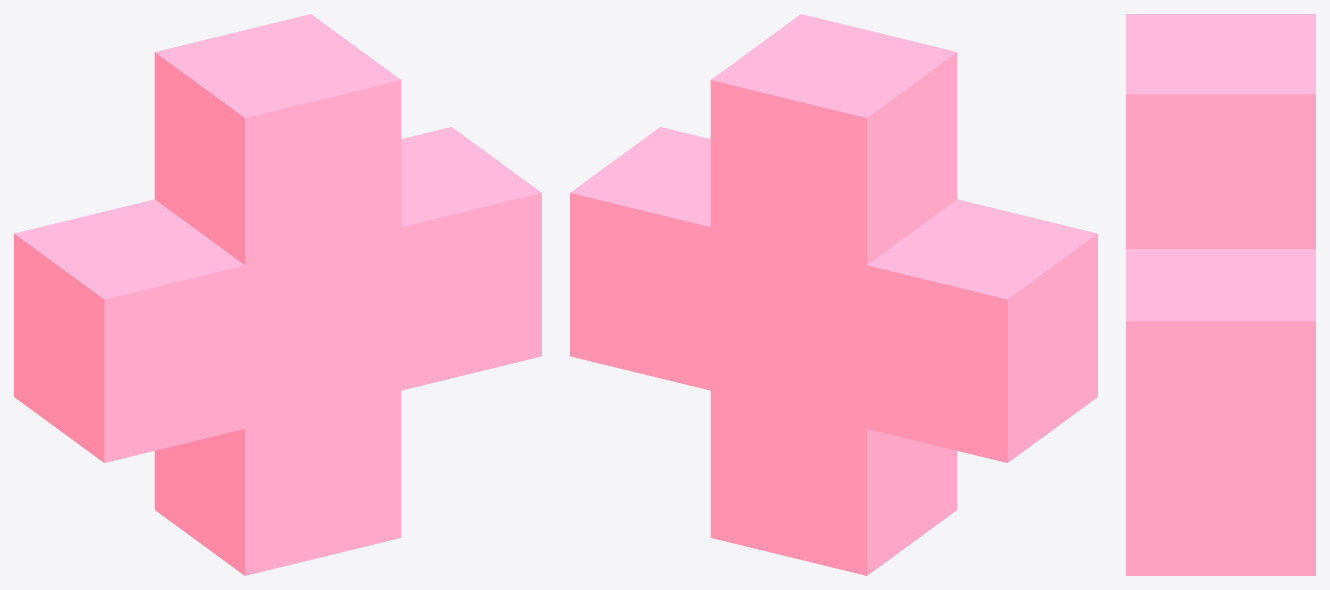
The model's file is item_extraLife.fbx.
3 views of the same model, side by side, from view 1: azimuth 30°, elevation 25°; view 2: azimuth 150°, elevation 25°; view 3: azimuth 270°, elevation 25° (orthographic). The views are drawn at different scales.
Visible parts, largest first — view 1: Item_ExtraLife; view 2: Item_ExtraLife; view 3: Item_ExtraLife.
Part boxes in pixels (x1,y1,x2,y2): Item_ExtraLife: (14, 14, 541, 575); Item_ExtraLife: (570, 14, 1097, 575); Item_ExtraLife: (1126, 14, 1315, 575).
Bounding box in the file's own units: 70 × 70 × 25.
